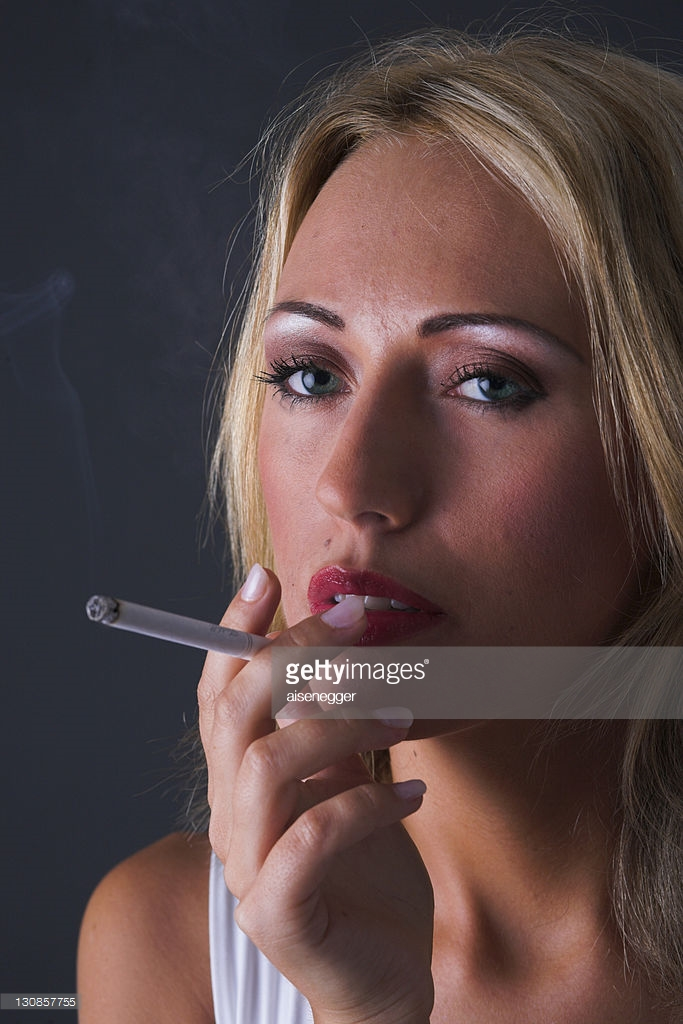cigarette: (84, 589, 287, 664)
